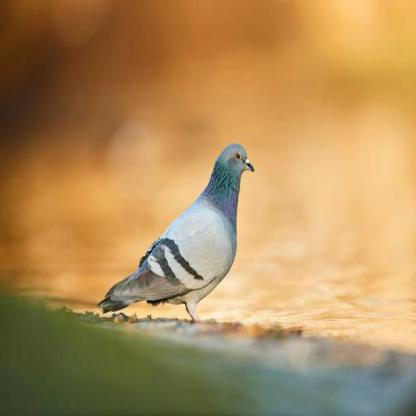Rock Pigeon: (96, 139, 259, 309)
